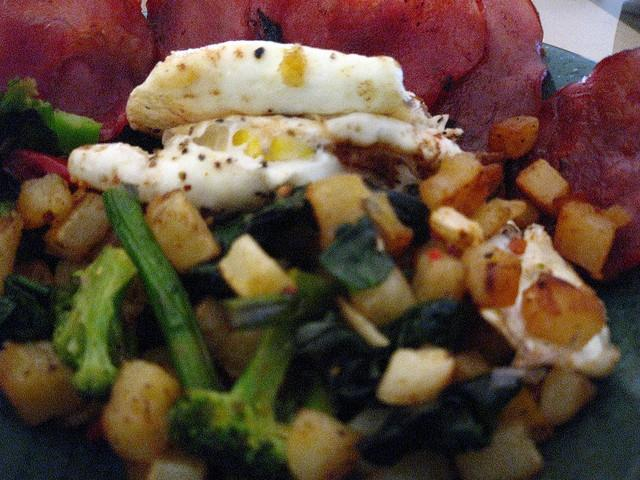broccoli: (165, 324, 298, 478), (48, 242, 142, 406), (0, 76, 102, 160), (221, 271, 341, 330), (0, 274, 56, 344)
potato: (97, 357, 182, 465), (0, 340, 86, 427), (144, 186, 222, 276), (520, 273, 605, 352), (455, 414, 545, 480), (304, 174, 374, 253), (284, 410, 364, 479), (218, 234, 298, 298), (42, 187, 110, 262), (376, 344, 458, 406), (420, 153, 490, 219), (554, 202, 616, 276), (349, 264, 418, 327), (463, 246, 522, 306), (362, 192, 414, 260), (541, 366, 600, 425), (16, 172, 74, 230), (516, 160, 575, 216), (500, 387, 554, 442), (412, 252, 469, 304), (338, 295, 392, 349), (429, 206, 483, 258), (212, 329, 263, 381), (488, 115, 540, 160), (193, 295, 230, 357), (147, 443, 208, 480), (0, 210, 24, 294), (471, 198, 512, 241), (452, 348, 492, 382), (512, 198, 543, 230), (54, 260, 88, 284)
